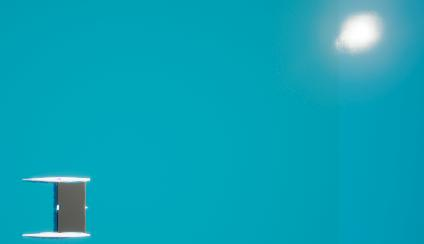boat: (19, 174, 94, 242)
drone: (58, 183, 84, 231)
land_base: (302, 0, 416, 87)
